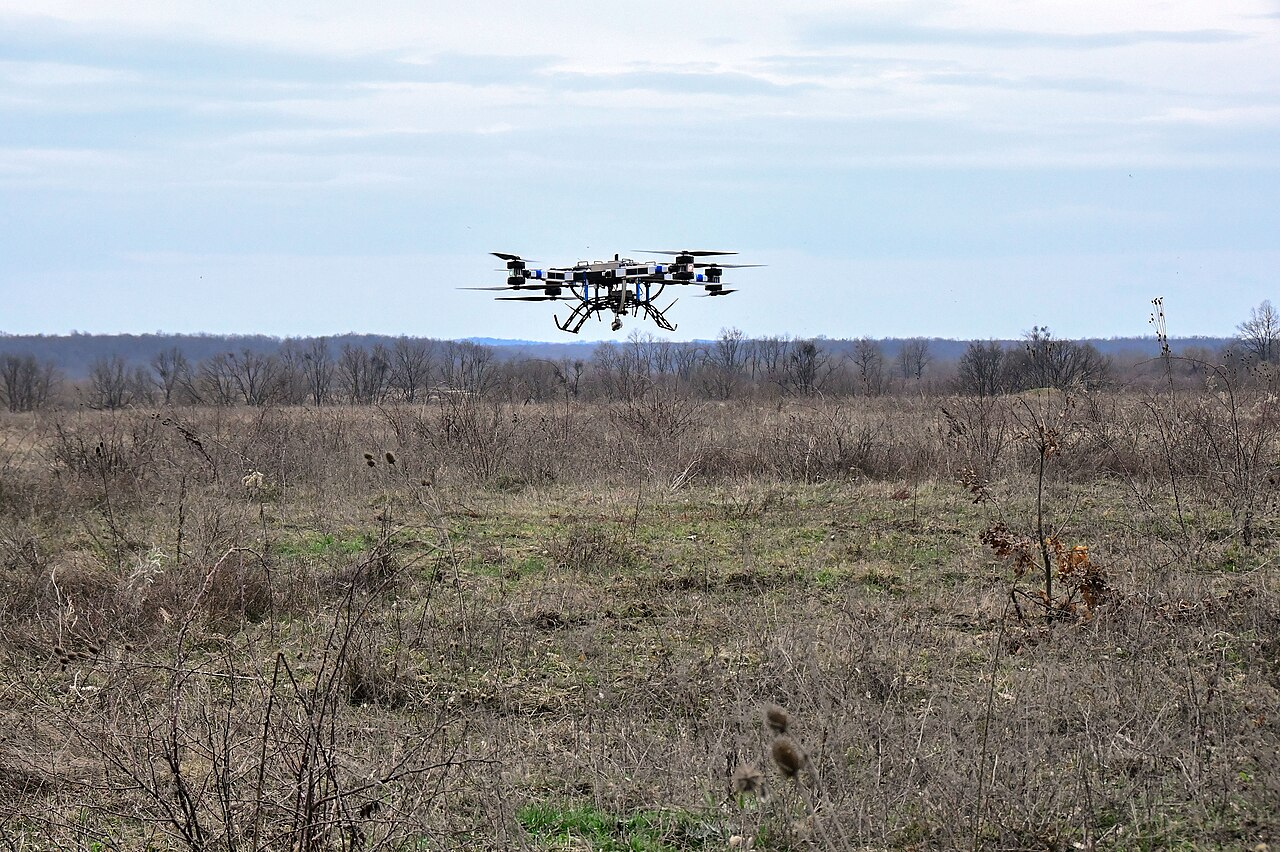drone: (461, 246, 794, 346)
